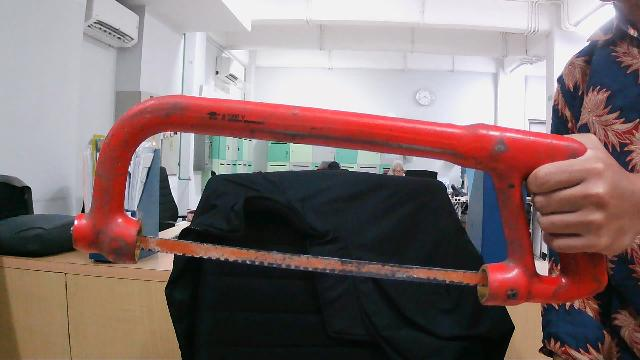gergaji_besi: (59, 83, 610, 313)
